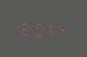four: (54, 20, 65, 37)
one: (42, 19, 53, 37)
two: (18, 19, 29, 36)
zero: (30, 19, 41, 36)
